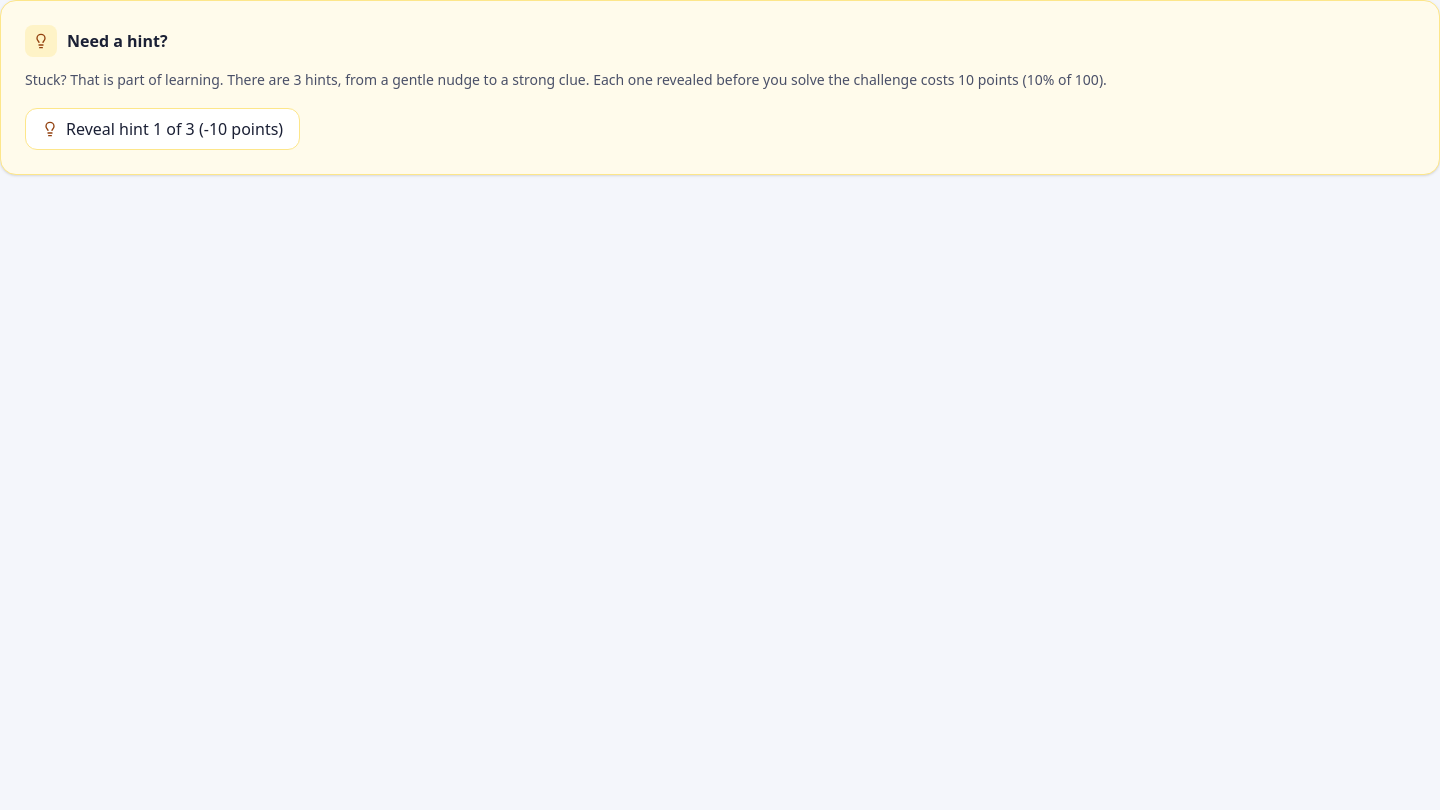
HintsPanel › states the cost and asks for confirmation before revealing a hint
Later steps or results of the test are not shown.
What coordinates should you click on to do the following:
click the button "Reveal hint 1 of 3 (-10 points)"
I would click on:
 (163, 129)
Its box is [25,108,300,150].
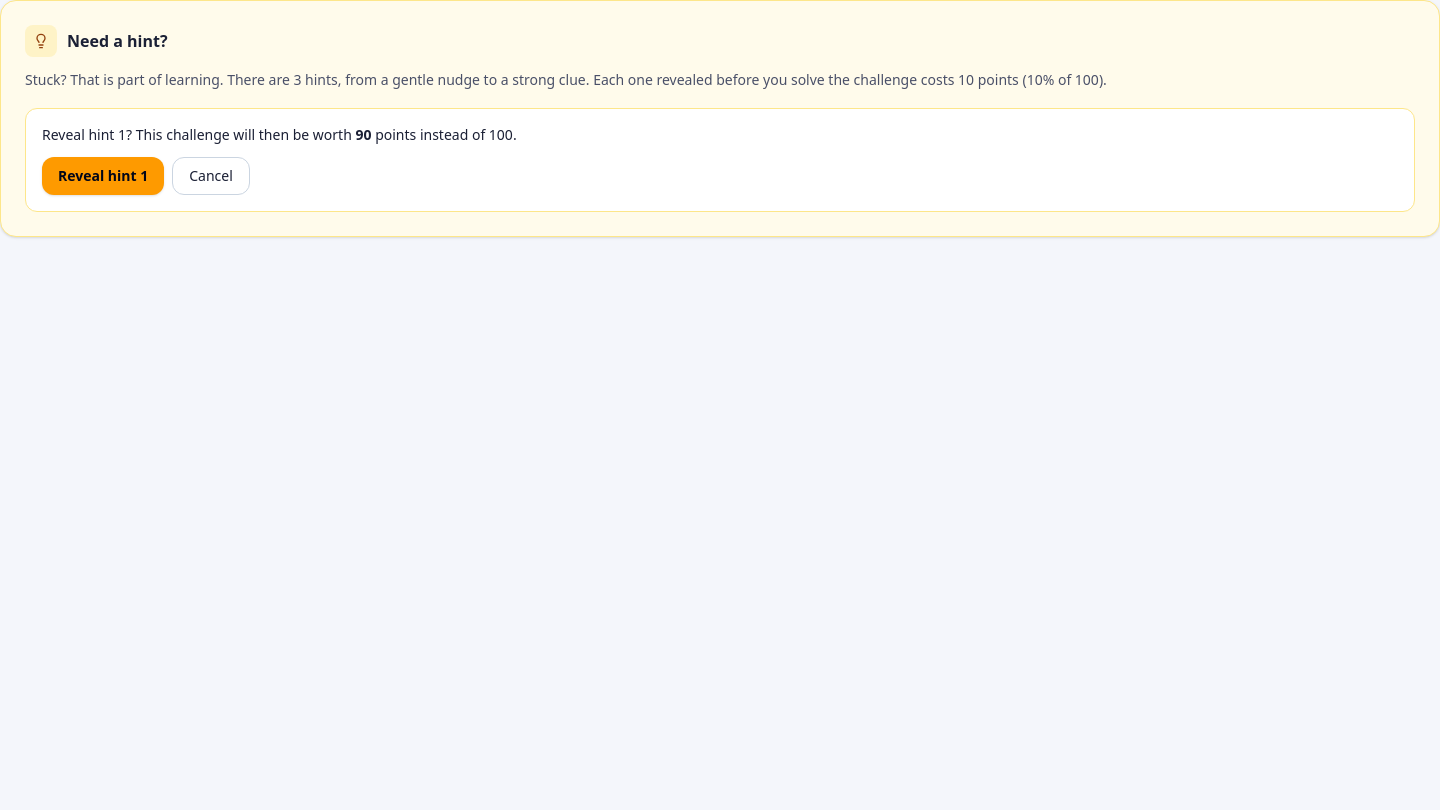
expect the dialog shows "worth 90 points instead of 100": met, box [25,108,1415,212]
